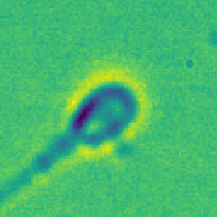abnormal: (1, 131, 75, 217)
